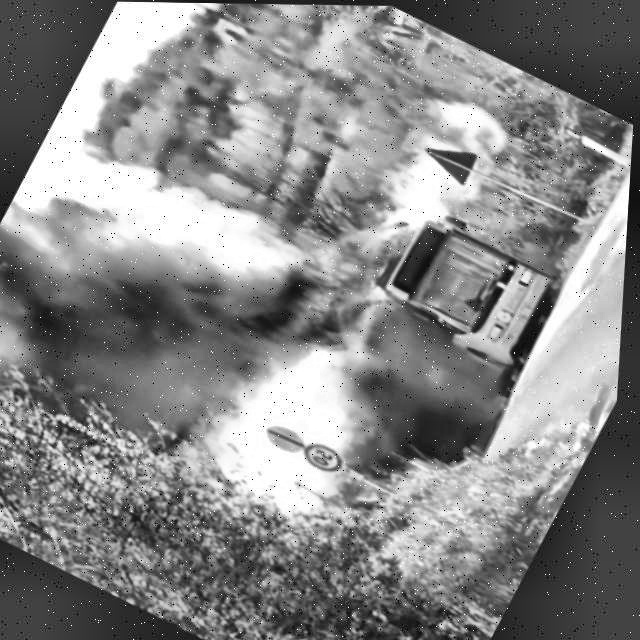Fire: (20, 119, 315, 302), (176, 330, 391, 560), (367, 92, 504, 246)
Smoke: (0, 220, 256, 516), (374, 341, 503, 470)
